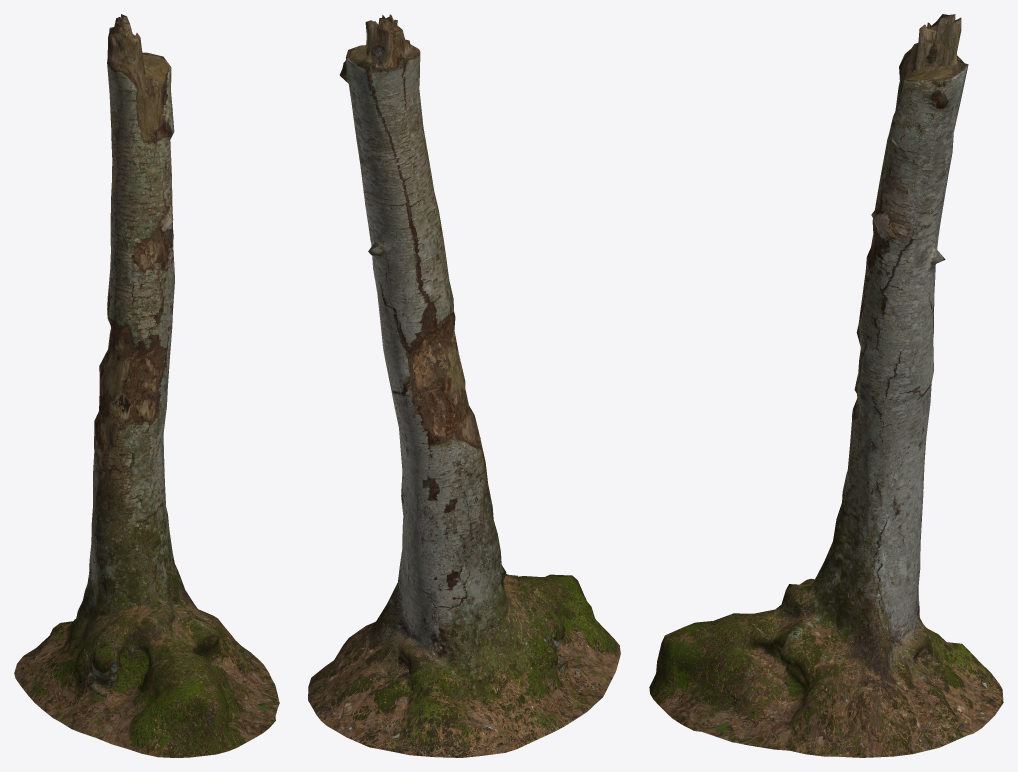
The model's file is nordic_forest_tree_stump_birch_medium_th5hcjjfa_mid.glb.
3 renders of one model, left to right at view 1: azimuth 30°, elevation 25°; view 2: azimuth 150°, elevation 25°; view 3: azimuth 270°, elevation 25°, orthographic. The views are drawn at different scales.
Visible parts, largest first — view 1: th5hcjjfa_LOD0_TIER2_000; view 2: th5hcjjfa_LOD0_TIER2_000; view 3: th5hcjjfa_LOD0_TIER2_000.
Part boxes in pixels (x1=…): th5hcjjfa_LOD0_TIER2_000: x1=14, y1=14, x2=279, y2=757; th5hcjjfa_LOD0_TIER2_000: x1=308, y1=14, x2=620, y2=757; th5hcjjfa_LOD0_TIER2_000: x1=649, y1=14, x2=1003, y2=757.
Bounding box in the file's own units: 0.7289 × 2.03 × 0.9361.
1 material, 1 textured.
